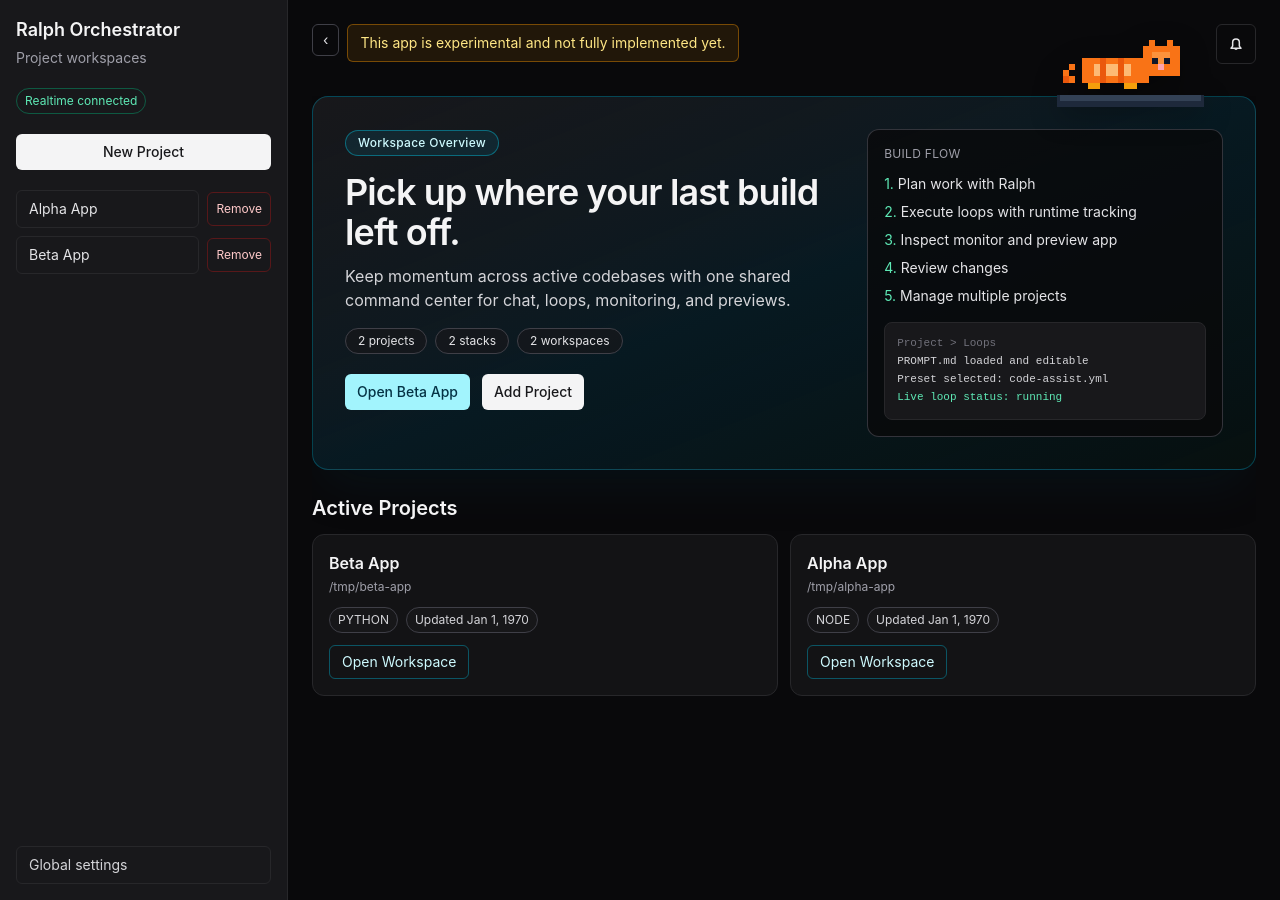
Test: App › removes a project from the sidebar list
Expected: the button "Beta App" is shown, x1=16 y1=236 x2=200 y2=274
Click the button with aria-label "Remove Beta App".
click(239, 255)  # box x1=208 y1=238 x2=271 y2=272
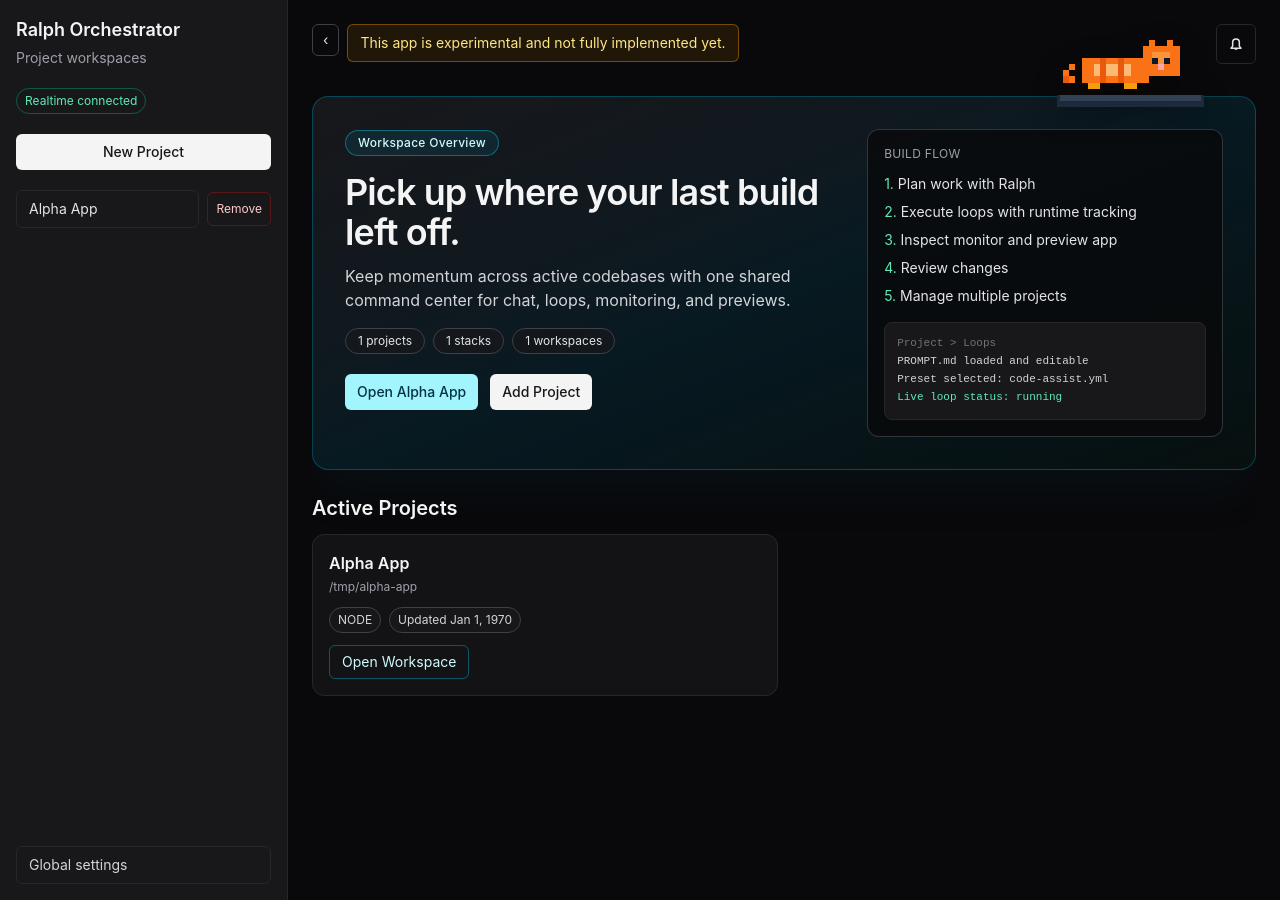
Expected: the button "Beta App" is gone
